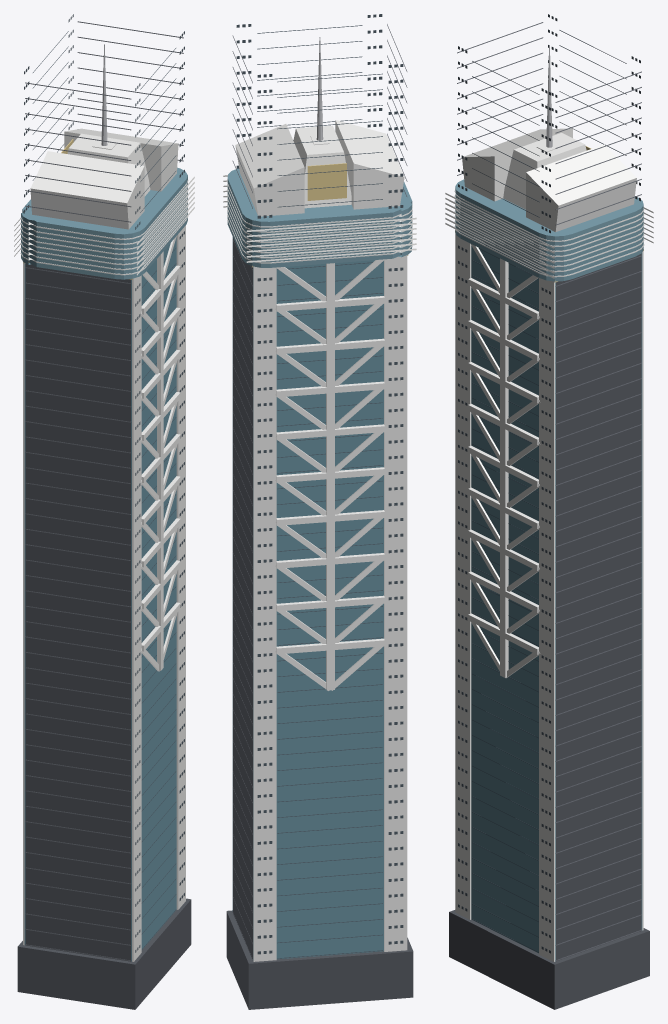
The model's file is millennium-tower-detailed.glb.
The picture shows the model from 3 angles, left to right: view 1: azimuth 30°, elevation 25°; view 2: azimuth 150°, elevation 25°; view 3: azimuth 270°, elevation 25°; orthographic projection. The views are drawn at different scales.
Parts seen in each view (by area): view 1: ShortFaceDark_x-1, Body_GlassShaft, Podium_Base, Drum_GlassBand, Wing_Left, SideWing_b-1_x-182, SideWing_b-1_x182, CenterMul_b-1, Wing_Right, Crown_CenterBox, SideWing_b1_x-182, DiagHor_b-1_s6 (+4 smaller); view 2: Body_GlassShaft, SideWing_b1_x-182, SideWing_b1_x182, ShortFaceDark_x1, Podium_Base, Drum_GlassBand, Wing_Right, Wing_Left, CenterMul_b1, Crown_CenterBox, Crown_LogoFront, DiagHor_b1_s8 (+8 smaller); view 3: ShortFaceDark_x1, Body_GlassShaft, SideWing_b-1_x182, SideWing_b-1_x-182, Podium_Base, Drum_GlassBand, Wing_Right, CenterMul_b-1, Wing_Left, Crown_CenterBox, SideWing_b1_x182, DiagHor_b-1_s6 (+8 smaller).
Boxes of the visible parts, x1,y1,x2,y2 form: ShortFaceDark_x-1: (25, 264, 130, 961); Body_GlassShaft: (24, 237, 176, 961); Podium_Base: (17, 898, 191, 1009); Drum_GlassBand: (21, 167, 187, 279); Wing_Left: (30, 151, 144, 229); SideWing_b-1_x-182: (132, 275, 141, 961); SideWing_b-1_x182: (176, 225, 185, 909); CenterMul_b-1: (157, 251, 163, 670); Wing_Right: (64, 128, 178, 191); Crown_CenterBox: (67, 133, 150, 196); SideWing_b1_x-182: (23, 262, 24, 945); DiagHor_b-1_s6: (141, 476, 180, 525); Body_GlassShaft: (232, 237, 383, 960); SideWing_b1_x-182: (384, 255, 407, 951); SideWing_b1_x182: (253, 266, 276, 961); ShortFaceDark_x1: (233, 237, 252, 958); Podium_Base: (226, 910, 413, 1009); Drum_GlassBand: (227, 168, 412, 267); Wing_Right: (235, 124, 304, 216); Wing_Left: (335, 120, 404, 209); CenterMul_b1: (326, 263, 334, 690); Crown_CenterBox: (293, 125, 351, 208); Crown_LogoFront: (307, 163, 346, 200); DiagHor_b1_s8: (276, 595, 384, 611); ShortFaceDark_x1: (556, 253, 641, 961); Body_GlassShaft: (471, 246, 642, 961); SideWing_b-1_x182: (539, 278, 555, 961); SideWing_b-1_x-182: (455, 232, 471, 919); Podium_Base: (449, 910, 649, 1009); Drum_GlassBand: (455, 179, 643, 281); Wing_Right: (526, 144, 636, 232); CenterMul_b-1: (500, 258, 508, 677); Wing_Left: (462, 128, 572, 201); Crown_CenterBox: (503, 132, 586, 209); SideWing_b1_x182: (642, 251, 643, 930); DiagHor_b-1_s6: (468, 487, 538, 528).
Bounding box in the file's own units: 59.93 × 285 × 58.61.
